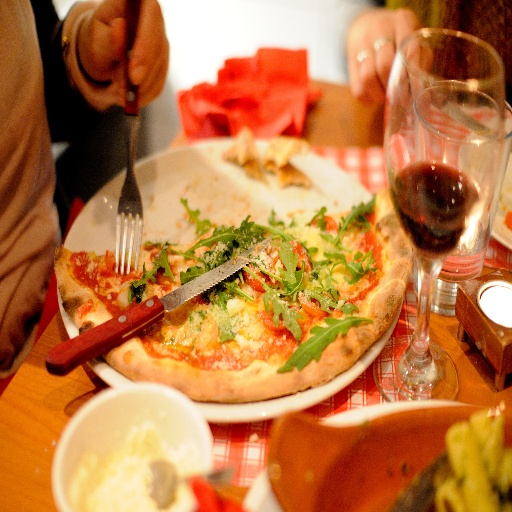hand: (80, 0, 169, 115), (346, 6, 432, 113)
